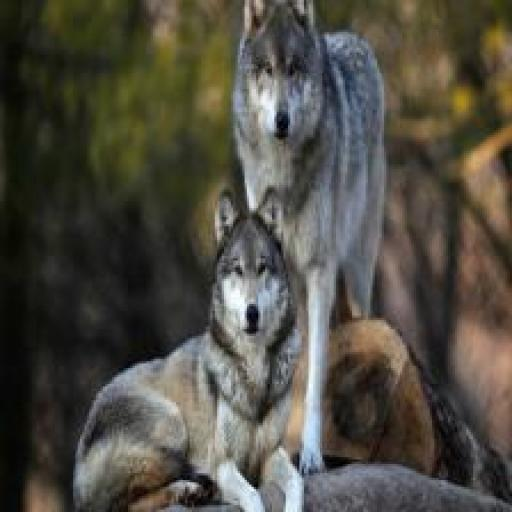wolf: (60, 176, 324, 512), (224, 0, 417, 307)
